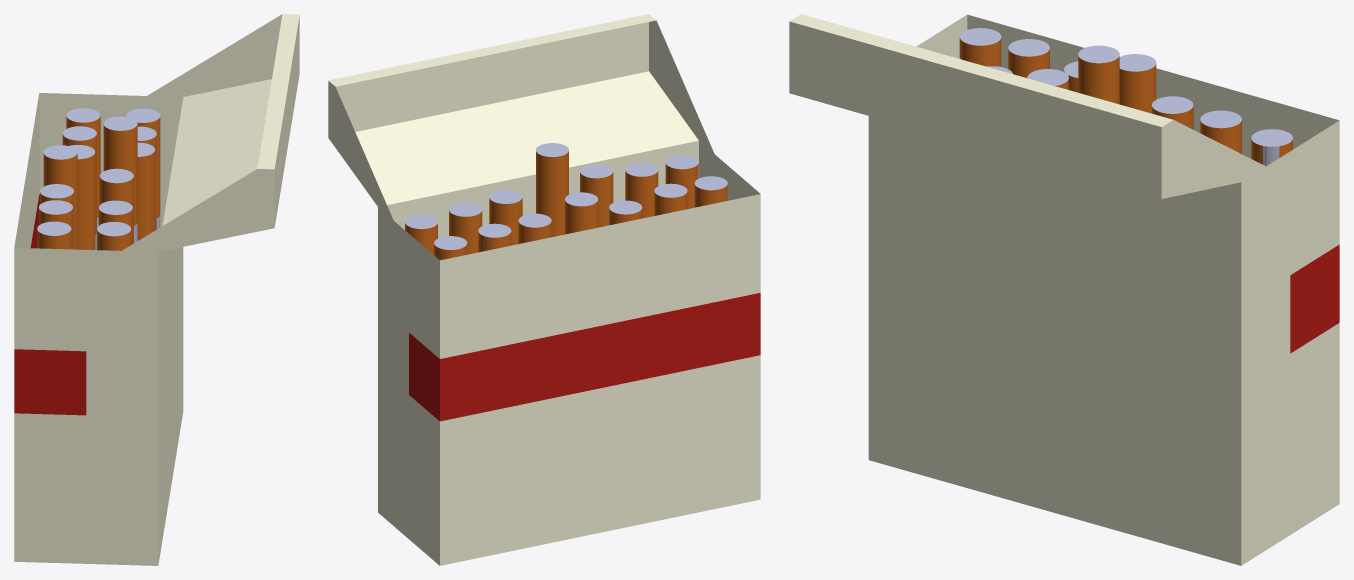
The model's file is ciggs.fbx.
3 renders of one model, left to right at view 1: azimuth 30°, elevation 25°; view 2: azimuth 150°, elevation 25°; view 3: azimuth 270°, elevation 25°, orthographic. The views are drawn at different scales.
Visible parts, largest first — view 1: Cylinder.001; view 2: Cylinder.001; view 3: Cylinder.001.
Part boxes in pixels (left/top/right/bottom): Cylinder.001: left=14, top=14, right=299, bottom=565; Cylinder.001: left=328, top=14, right=760, bottom=565; Cylinder.001: left=789, top=14, right=1339, bottom=565.
Size of the model in its own units: 443 by 464 by 474.
